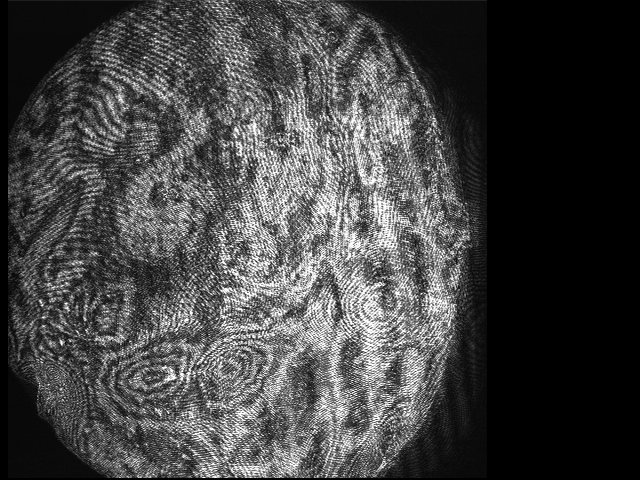plume: (105, 343, 268, 412)
